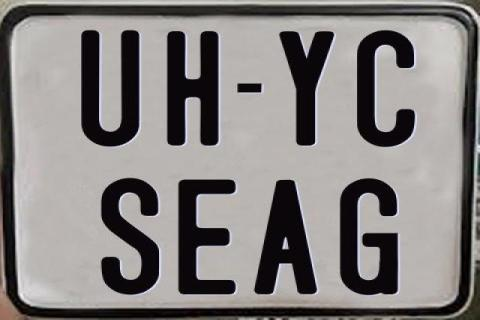A: (254, 178, 324, 294)
C: (356, 31, 417, 151)
E: (176, 178, 235, 296)
G: (339, 179, 399, 295)
H: (165, 30, 219, 146)
S: (102, 176, 164, 296)
U: (78, 30, 140, 150)
Y: (278, 31, 338, 149)
